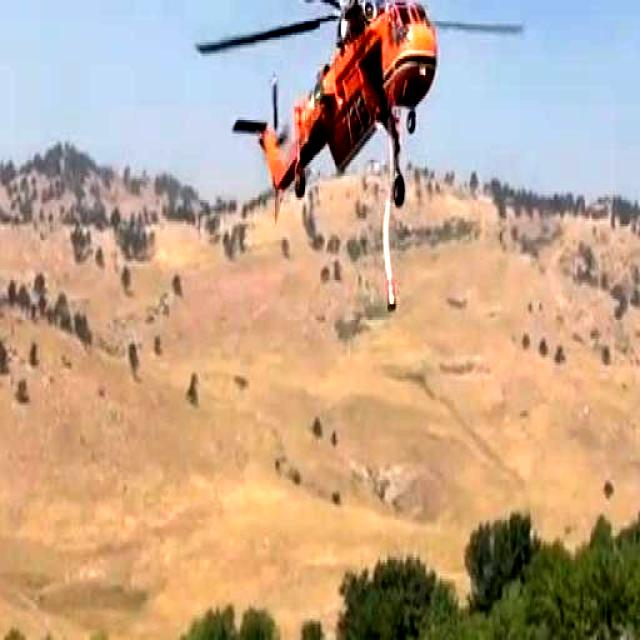drone: (162, 0, 539, 206)
